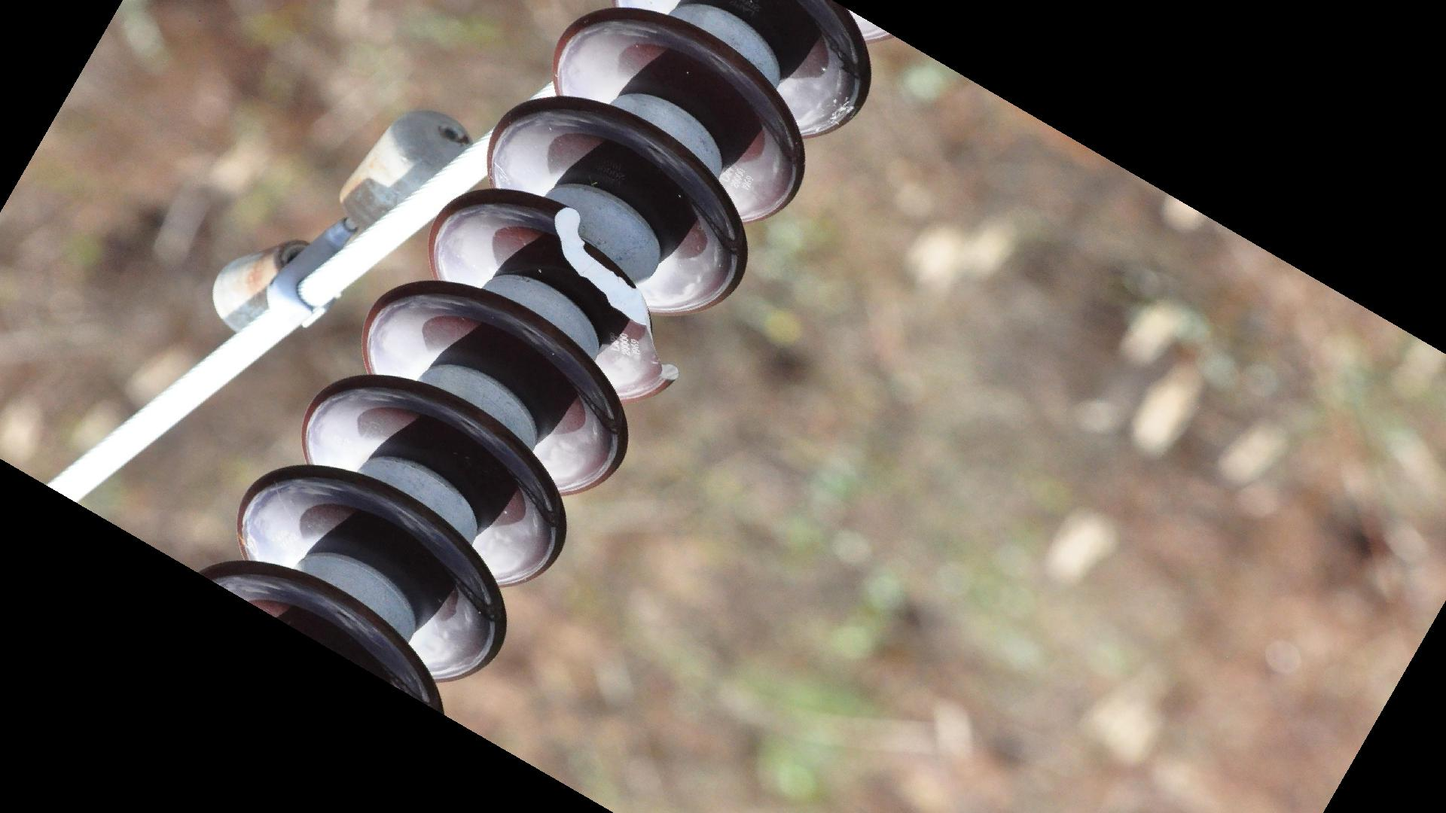insulator: (185, 1, 884, 717)
insulator_breakage: (545, 202, 688, 390)
